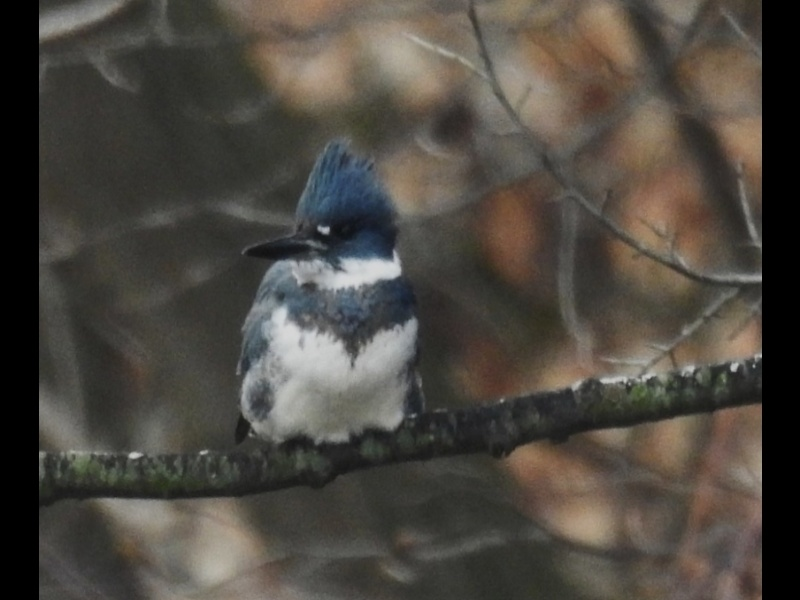kingfisher: (231, 137, 428, 466)
